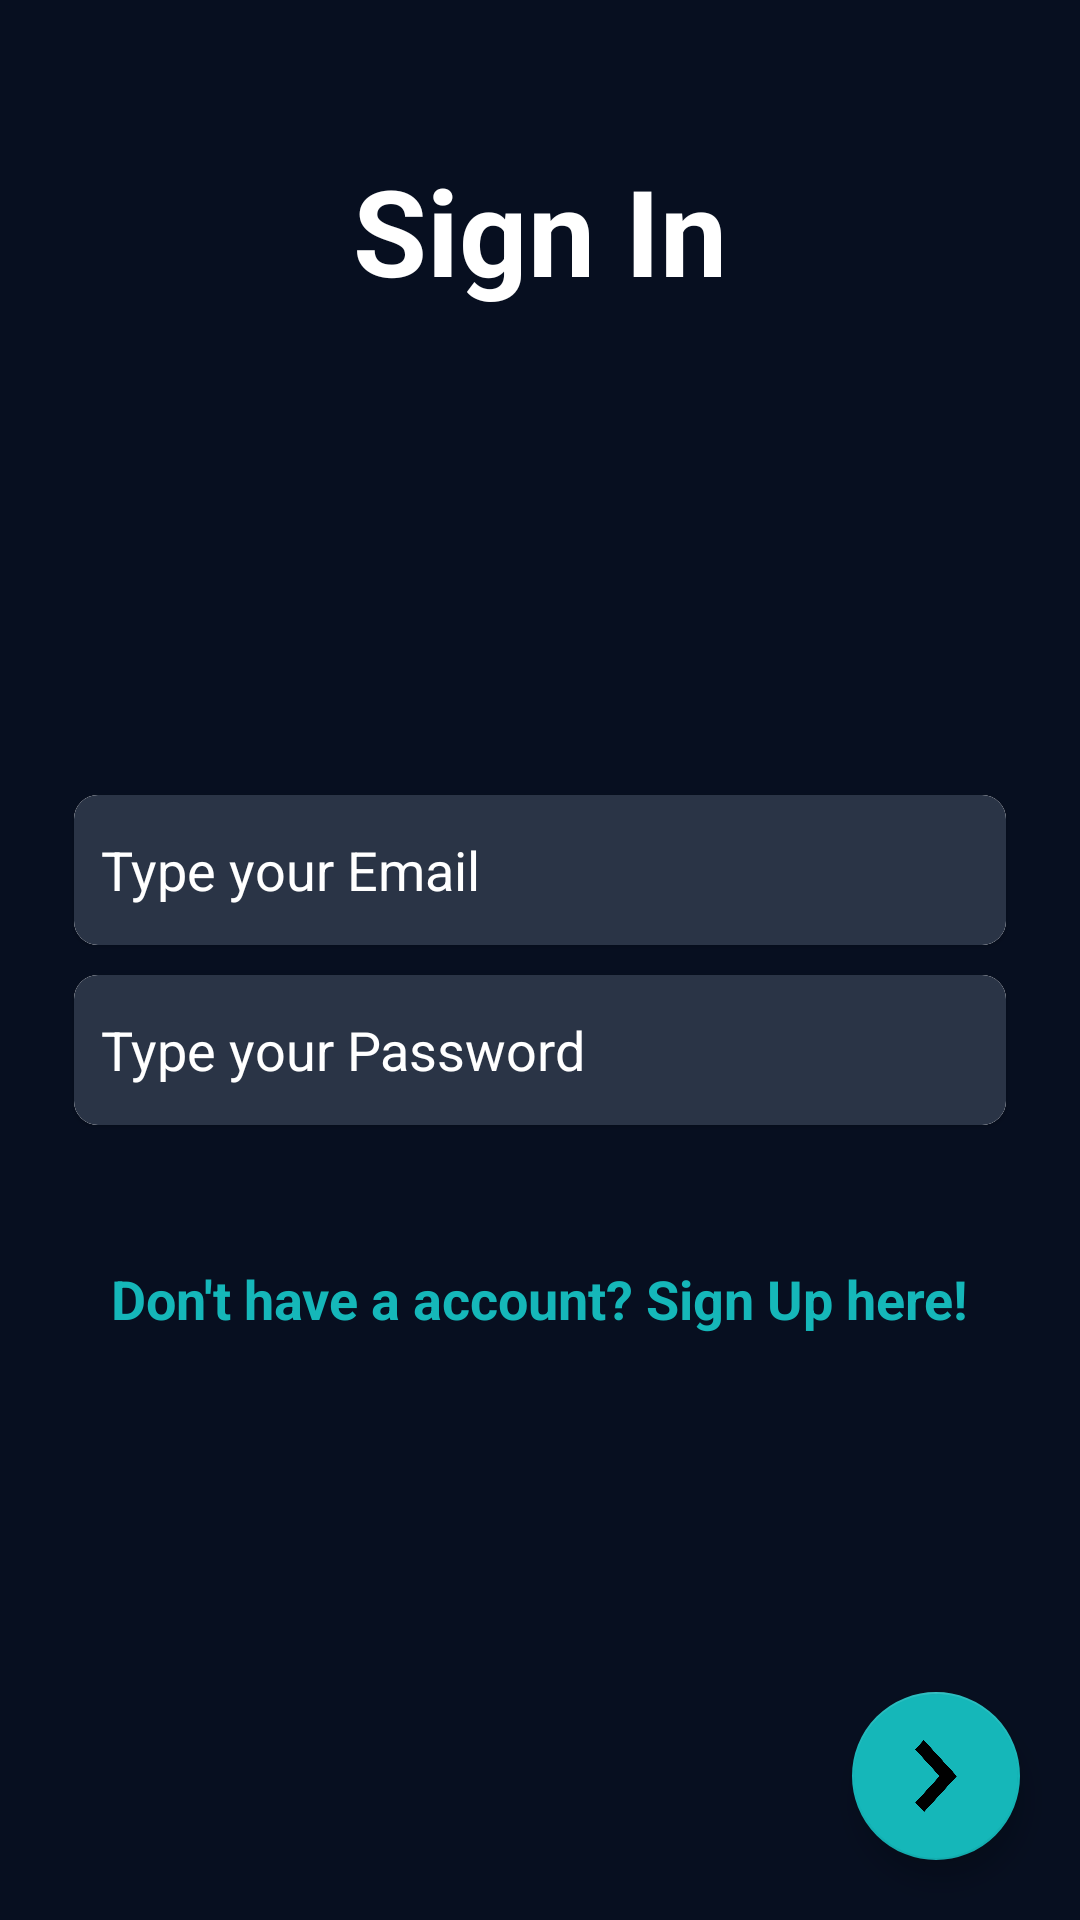

Screen size 1080px x 1920px. Icon name, then its center in pixels as [x,y]:
rightarrow: [936,1776]
